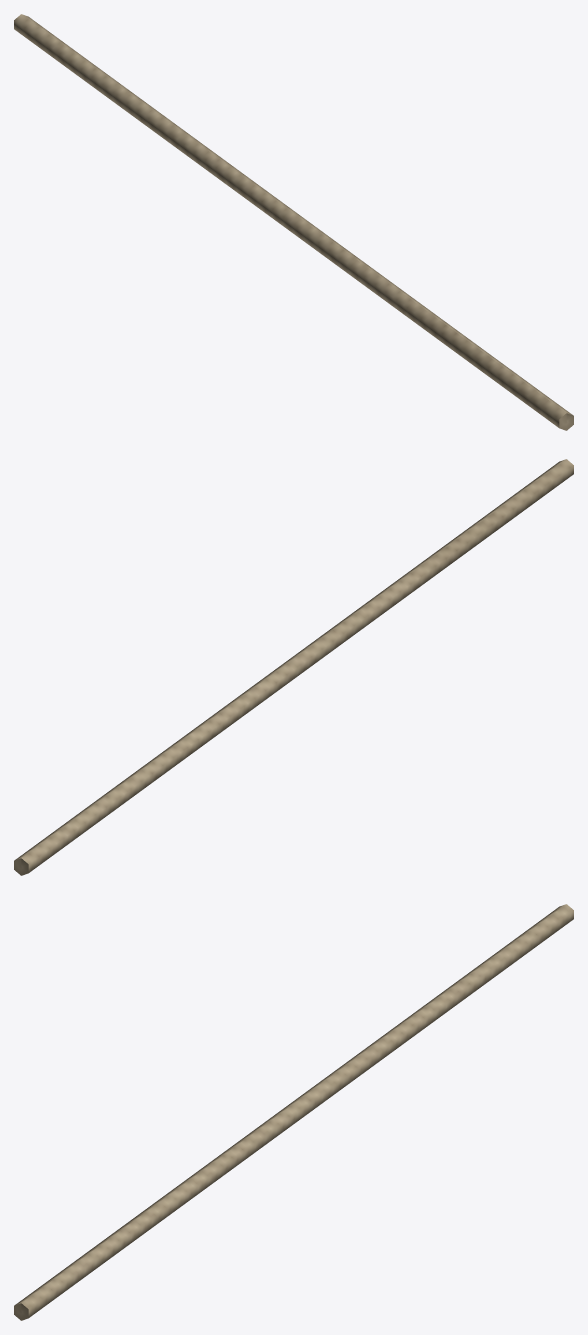
File: DriftBoatLine.gltf
3 renders of one model, top to bottom at view 1: azimuth 30°, elevation 25°; view 2: azimuth 150°, elevation 25°; view 3: azimuth 330°, elevation 25°, orthographic.
Visible parts, largest first — view 1: DriftBoatLine; view 2: DriftBoatLine; view 3: DriftBoatLine.
Part boxes in pixels (x1,y1,x2,y2): DriftBoatLine: (14,14,573,430); DriftBoatLine: (14,459,573,875); DriftBoatLine: (14,904,573,1320).
Size of the model in its own units: 0.0156 by 0.018 by 1.
Materials: 1 (1 with a texture image).
